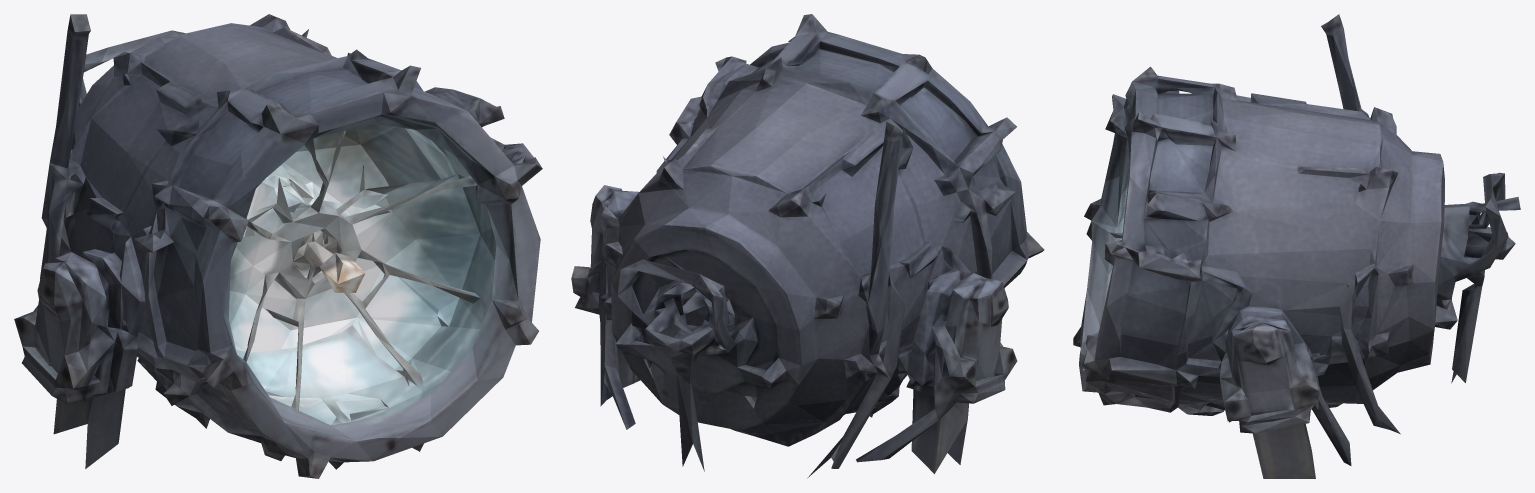
Rendered from searchlight_drum.obj.
3 renders of one model, left to right at view 1: azimuth 30°, elevation 25°; view 2: azimuth 150°, elevation 25°; view 3: azimuth 270°, elevation 25°, orthographic. The views are drawn at different scales.
Visible parts, largest first — view 1: searchlight_drum; view 2: searchlight_drum; view 3: searchlight_drum.
Boxes of the visible parts, x1,y1,x2,y2 form: searchlight_drum: [14, 14, 542, 478]; searchlight_drum: [571, 14, 1044, 478]; searchlight_drum: [1073, 14, 1520, 478].
Size of the model in its own units: 2.07 by 1.76 by 2.11.
1 material, 1 textured.
